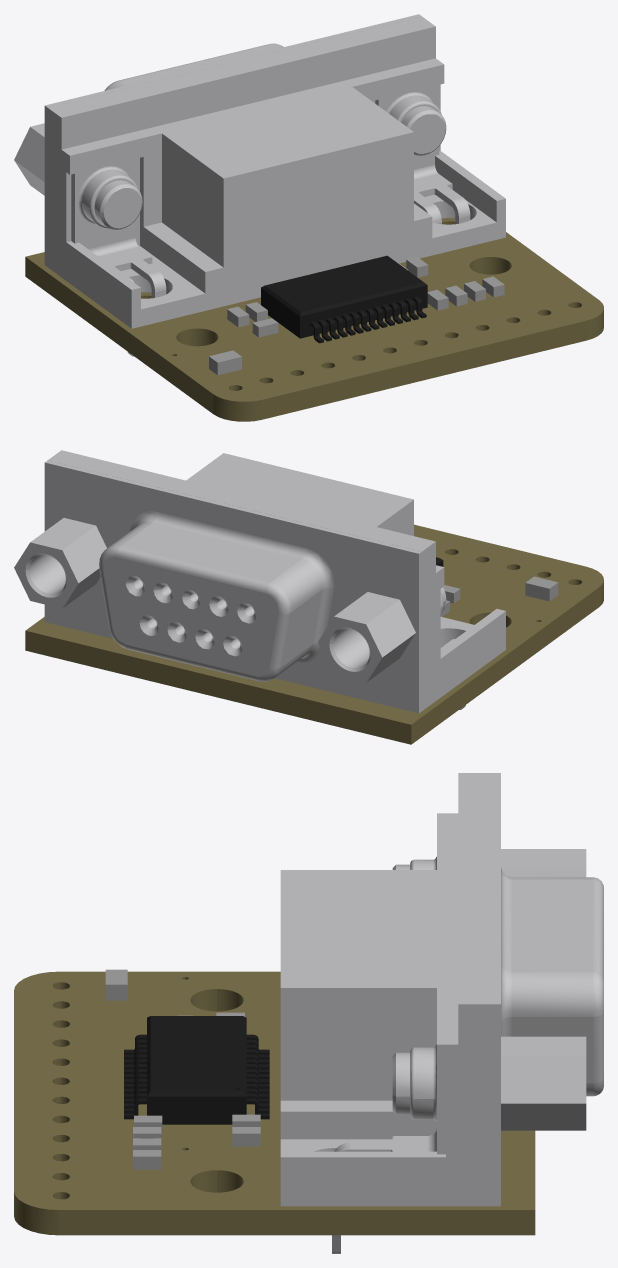
The model's file is ada-5988.glb.
3 views of the same model, one above another, from view 1: azimuth 30°, elevation 25°; view 2: azimuth 150°, elevation 25°; view 3: azimuth 270°, elevation 25° (orthographic). The views are drawn at different scales.
Parts seen in each view (by area): view 1: 0.5833333333333334_0.5833333333333334_0.5833333333333334_0.8, 0.16666666666666666_0.16666666666666666_0.08333333333333333_, 0_0_0_0, 0.3333333333333333_0.3333333333333333_0.3333333333333333_0; view 2: 0.5833333333333334_0.5833333333333334_0.5833333333333334_0.8, 0.16666666666666666_0.16666666666666666_0.08333333333333333_, 0.3333333333333333_0.3333333333333333_0.3333333333333333_0; view 3: 0.5833333333333334_0.5833333333333334_0.5833333333333334_0.8, 0.16666666666666666_0.16666666666666666_0.08333333333333333_, 0_0_0_0, 0.3333333333333333_0.3333333333333333_0.3333333333333333_0.
Part boxes in pixels (<box>): 0.5833333333333334_0.5833333333333334_0.5833333333333334_0.8: <box>14,14,505,356</box>; 0.16666666666666666_0.16666666666666666_0.08333333333333333_: <box>25,218,603,421</box>; 0_0_0_0: <box>261,255,427,343</box>; 0.3333333333333333_0.3333333333333333_0.3333333333333333_0: <box>209,257,504,375</box>; 0.5833333333333334_0.5833333333333334_0.5833333333333334_0.8: <box>14,450,505,713</box>; 0.16666666666666666_0.16666666666666666_0.08333333333333333_: <box>25,524,603,744</box>; 0.3333333333333333_0.3333333333333333_0.3333333333333333_0: <box>440,576,558,616</box>; 0.5833333333333334_0.5833333333333334_0.5833333333333334_0.8: <box>280,773,603,1253</box>; 0.16666666666666666_0.16666666666666666_0.08333333333333333_: <box>14,971,535,1235</box>; 0_0_0_0: <box>124,1016,269,1124</box>; 0.3333333333333333_0.3333333333333333_0.3333333333333333_0: <box>105,969,260,1169</box>.
Bounding box in the file's own units: 3.17 × 1.64 × 3.32.
